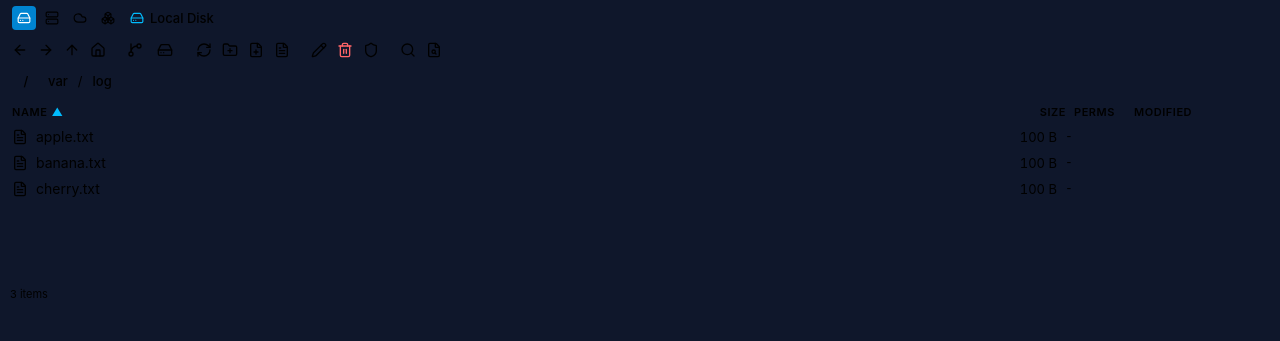
FilePane Home Button › reflects the active text filter in the status bar's item count, not the pre-filter count
This screenshot has width=1280, height=341.
expect the text "apple.txt" is shown: met, box x1=36 y1=127 x2=94 y2=147
expect the text "3 items" is shown: met, box x1=10 y1=286 x2=48 y2=302
Click the button titled "Search / Filter files (Ctrl+F)" at [408, 50], box x1=396 y1=38 x2=420 y2=62
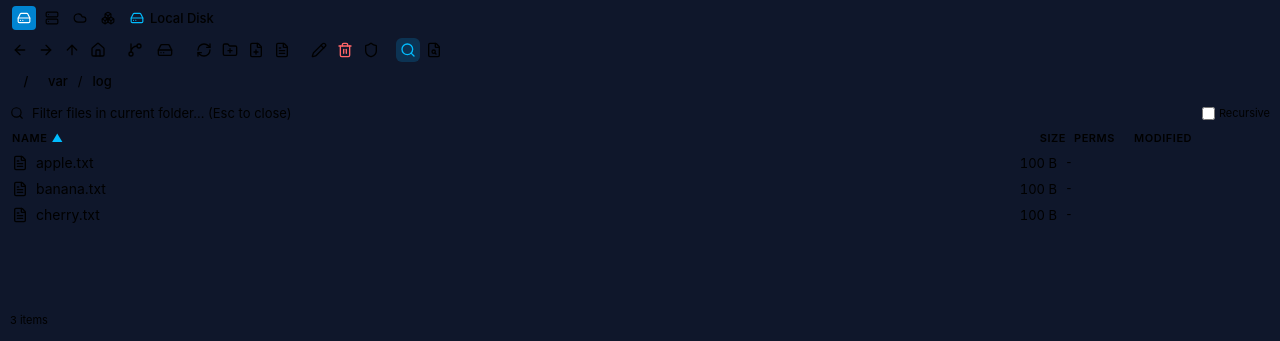
Type "an" into the field with placeholder "Filter files in current folder... (Esc to close)" at [613, 113], box x1=32 y1=104 x2=1194 y2=122
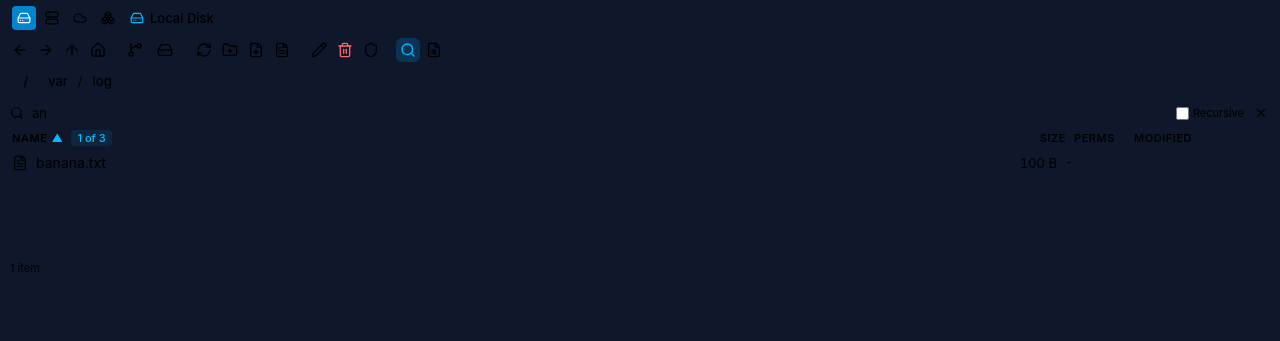
expect the text "banana.txt" is shown: met, box x1=36 y1=153 x2=106 y2=173
expect the text "apple.txt" is gone: met
expect the text "1 item" is shown: met, box x1=10 y1=260 x2=40 y2=276
